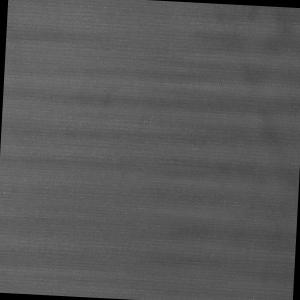Wrinkle: (168, 2, 300, 300)
